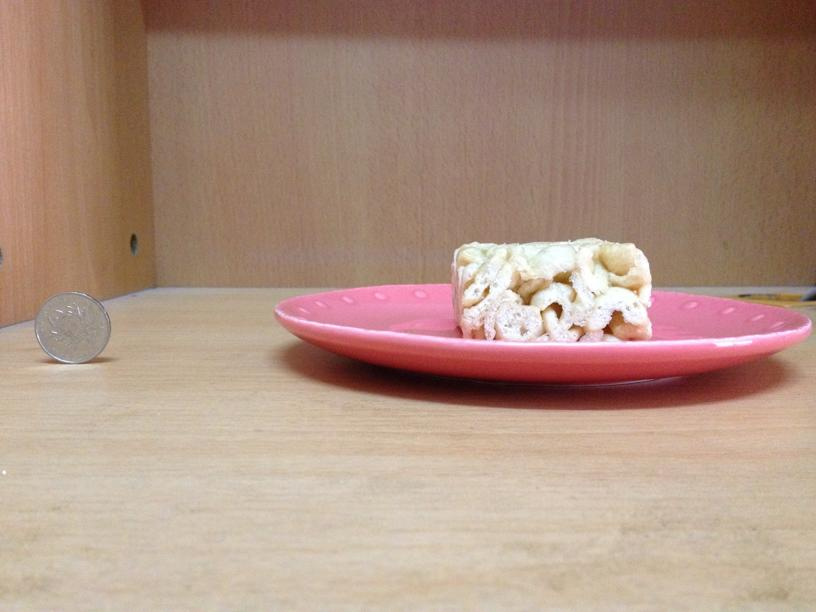coin: (36, 291, 110, 365)
sachima: (443, 233, 657, 346)
